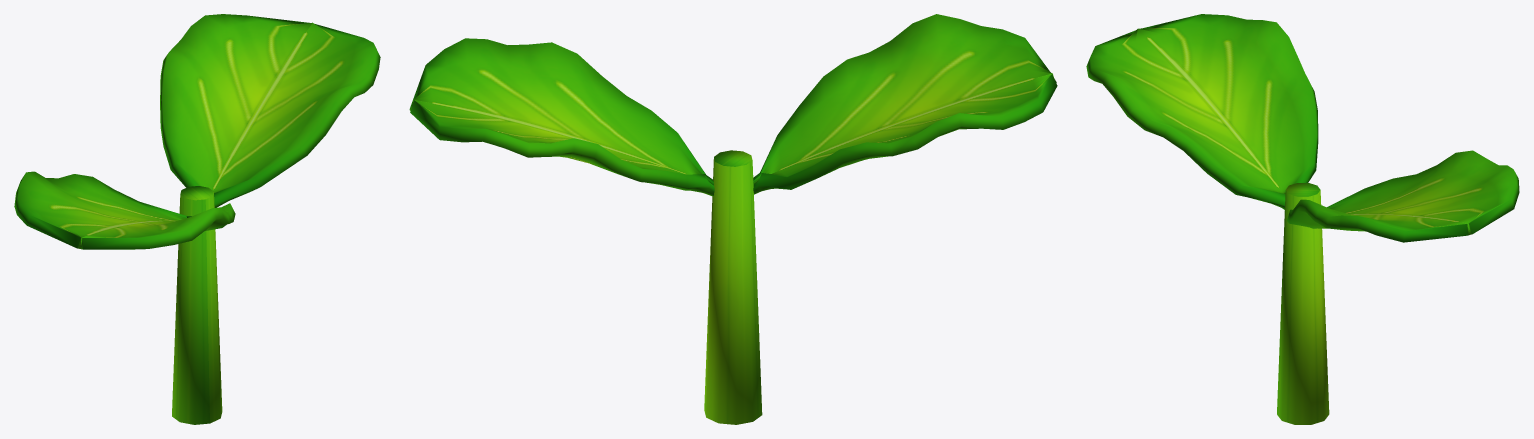
Rendered from NP_G03_Shared_Sprout.fbx.
3 views of the same model, side by side, from view 1: azimuth 30°, elevation 25°; view 2: azimuth 150°, elevation 25°; view 3: azimuth 270°, elevation 25° (orthographic). The views are drawn at different scales.
Visible parts, largest first — view 1: NP_G03_Shared_Sprout; view 2: NP_G03_Shared_Sprout; view 3: NP_G03_Shared_Sprout.
Boxes of the visible parts, <box> form: NP_G03_Shared_Sprout: <box>14,14,380,424</box>; NP_G03_Shared_Sprout: <box>409,14,1057,424</box>; NP_G03_Shared_Sprout: <box>1086,14,1519,424</box>.
Bounding box in the file's own units: 26.53 × 17.08 × 22.28.
